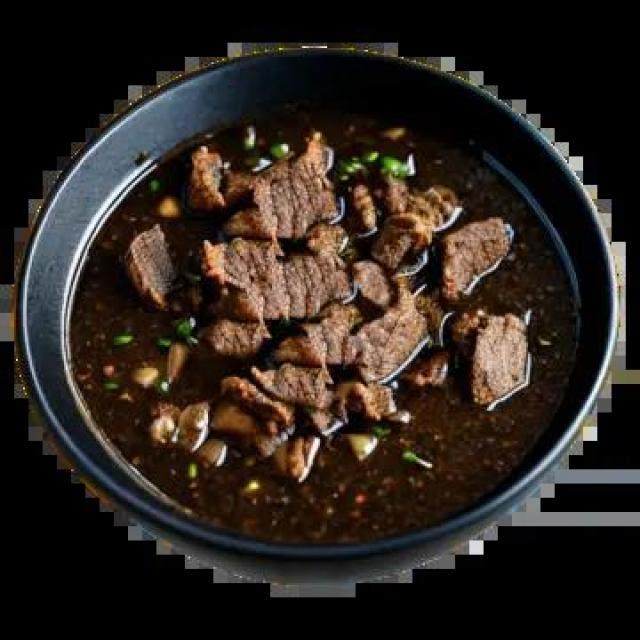Rawon: (68, 99, 574, 535)
